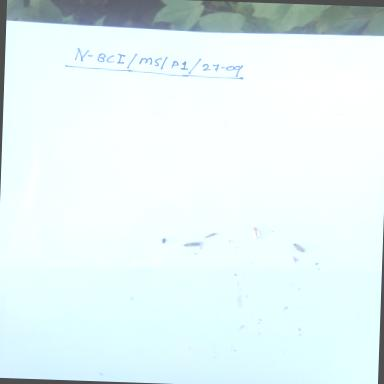pbw: (243, 219, 266, 241), (193, 226, 222, 240), (290, 242, 308, 255), (180, 239, 204, 248), (290, 254, 300, 263)
